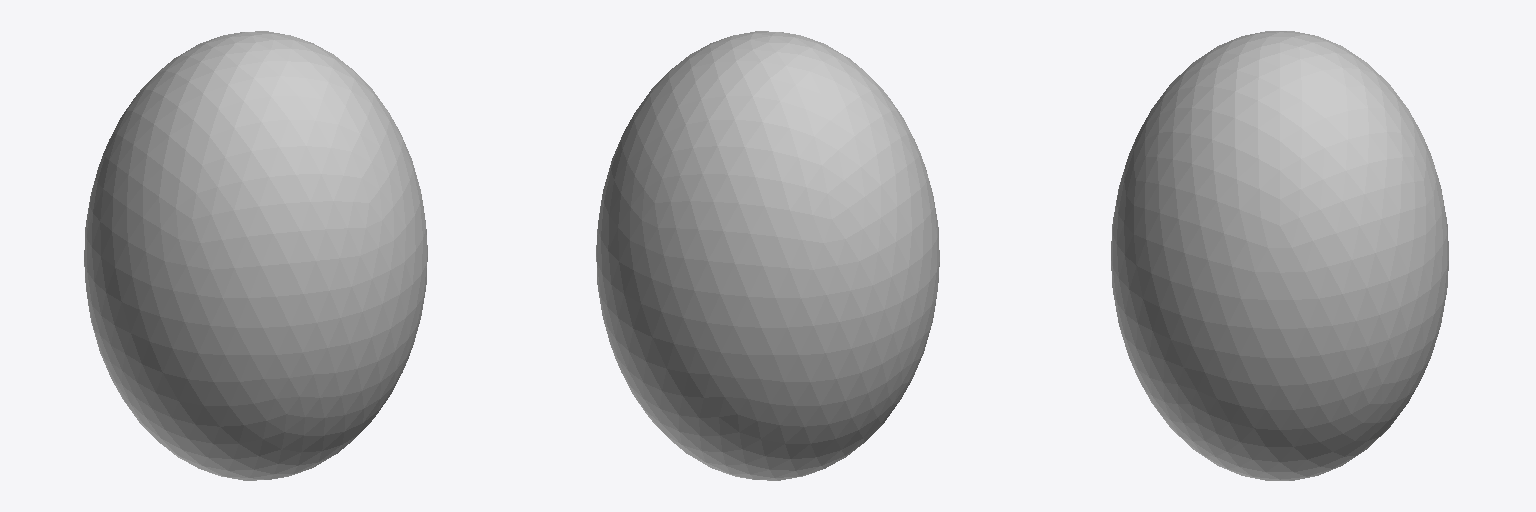
The model's file is egg.obj.
3 renders of one model, left to right at view 1: azimuth 30°, elevation 25°; view 2: azimuth 150°, elevation 25°; view 3: azimuth 270°, elevation 25°, orthographic.
Parts seen in each view (by area): view 1: Icosphere; view 2: Icosphere; view 3: Icosphere.
Part boxes in pixels (left/top/right/bottom): Icosphere: left=84, top=31, right=427, bottom=480; Icosphere: left=596, top=31, right=939, bottom=480; Icosphere: left=1111, top=31, right=1448, bottom=480.
Bounding box in the file's own units: 0.8955 × 1.22 × 0.8764.